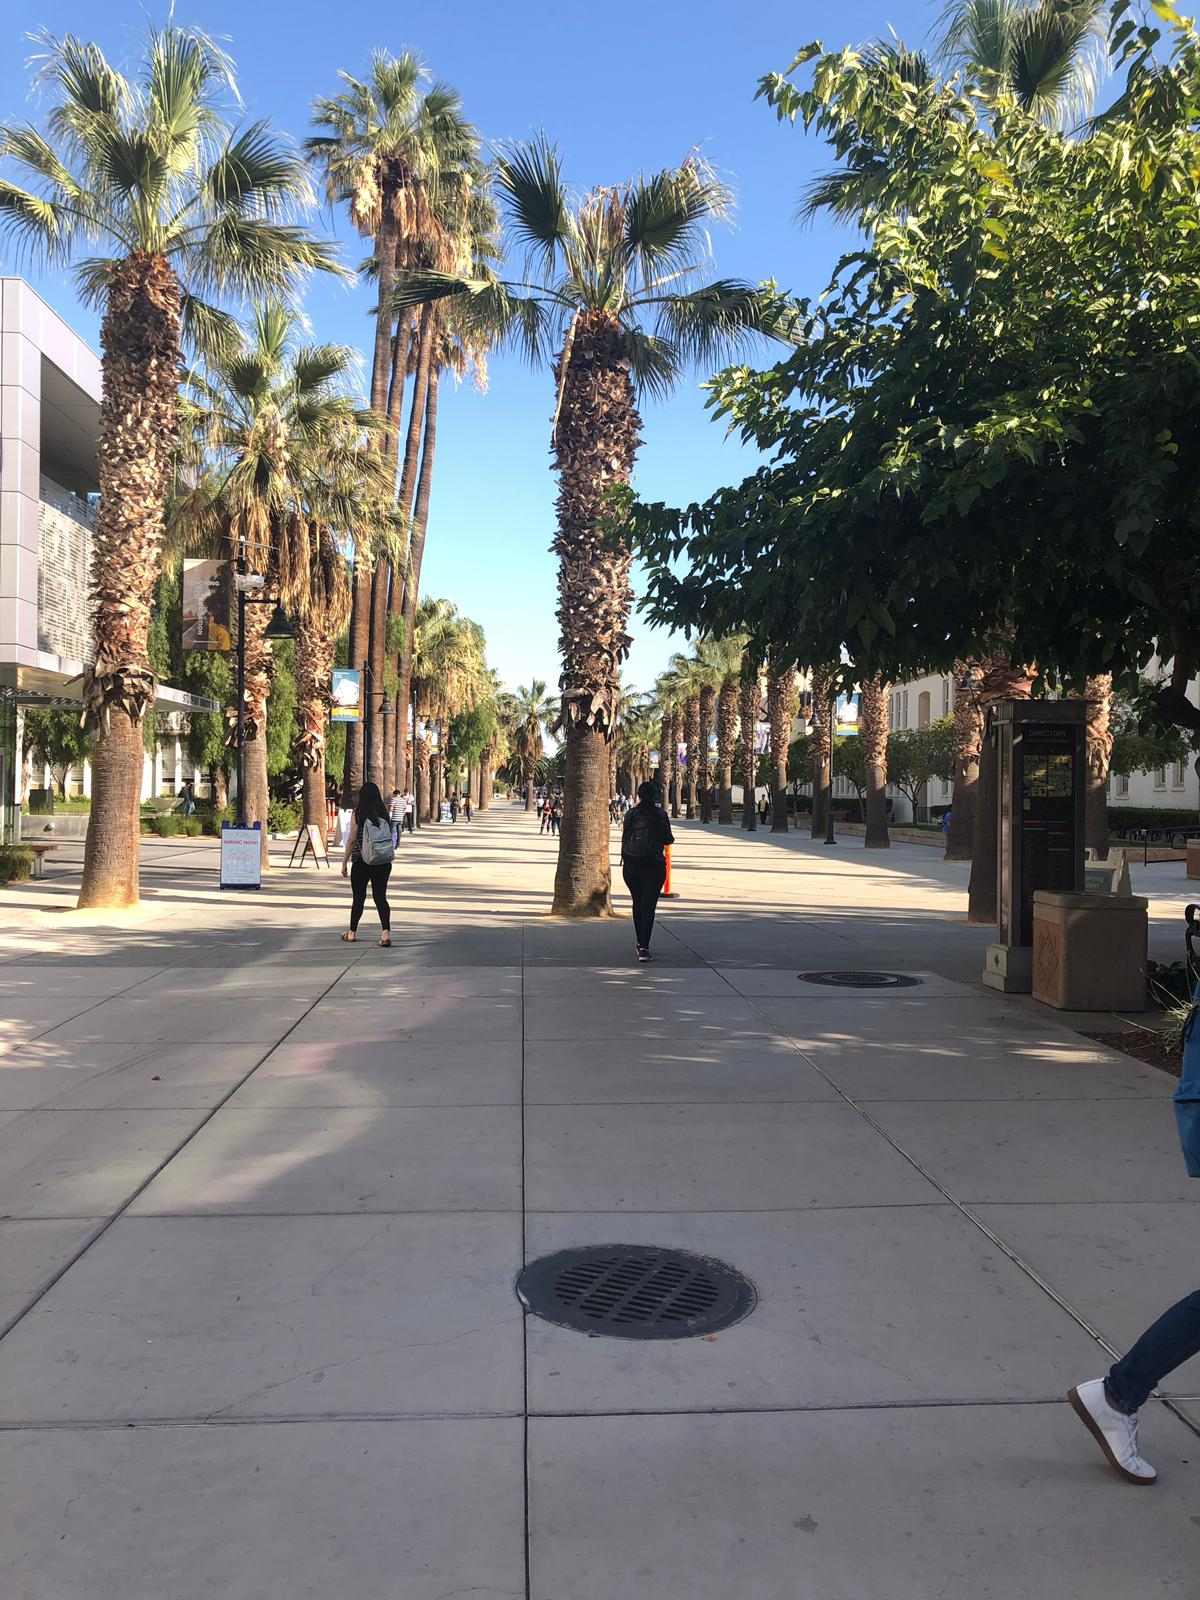plants: (13, 8, 219, 918), (681, 118, 933, 847), (953, 5, 1184, 684), (505, 152, 674, 777), (340, 77, 478, 781), (229, 317, 340, 813)
